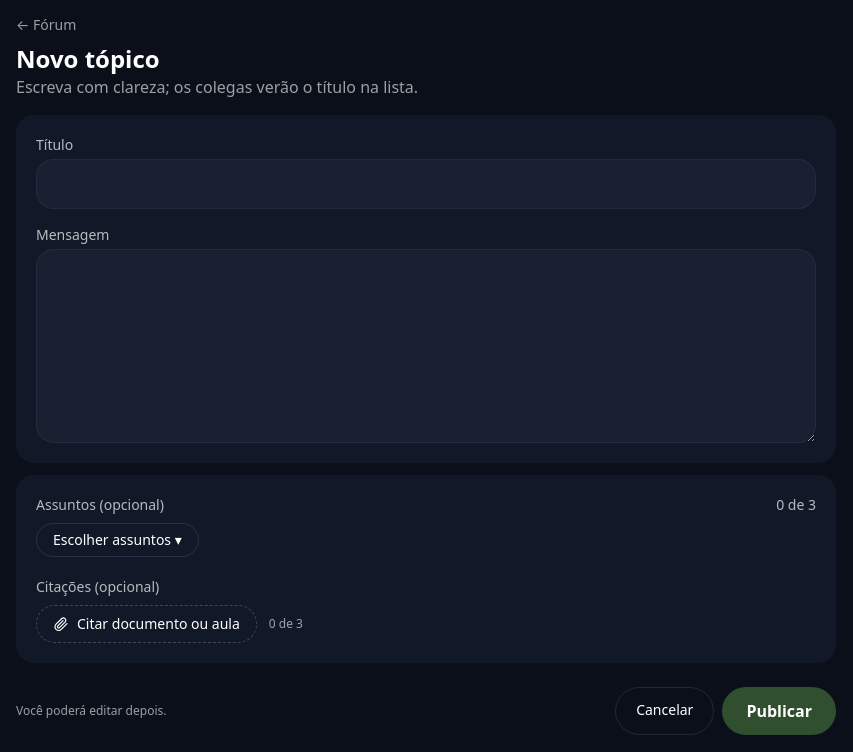
Scenario: NewTopicPage › recusa o 4º assunto
Click the button "Escolher assuntos ▾". click: click(117, 540)
box: [36, 523, 199, 557]
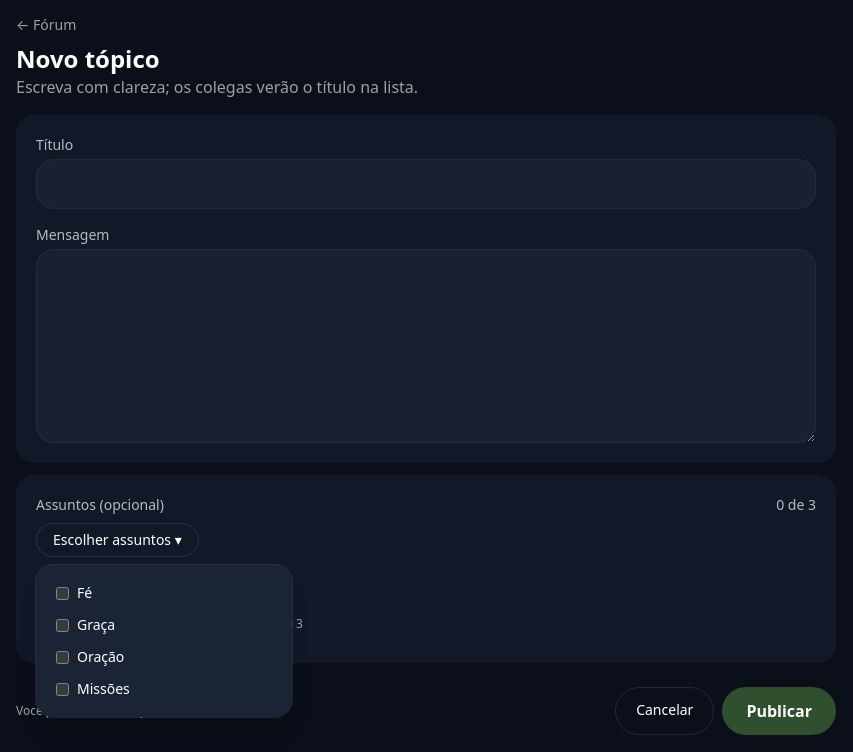
Click the checkbox labelled "Fé". click: click(62, 593)
box: [56, 586, 69, 600]
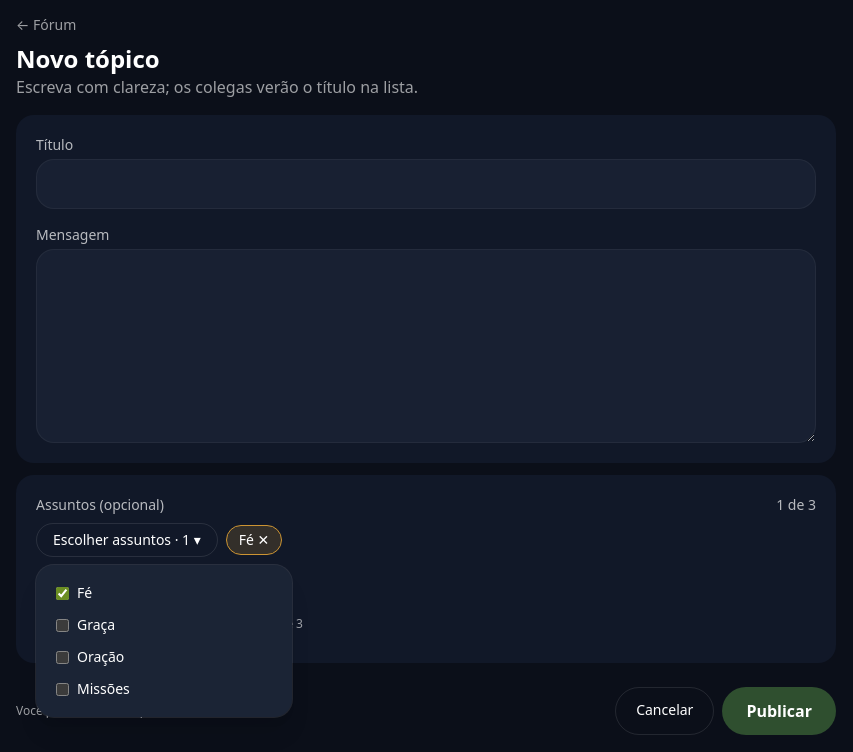
Click the checkbox labelled "Graça". click: click(62, 625)
box: [56, 618, 69, 632]
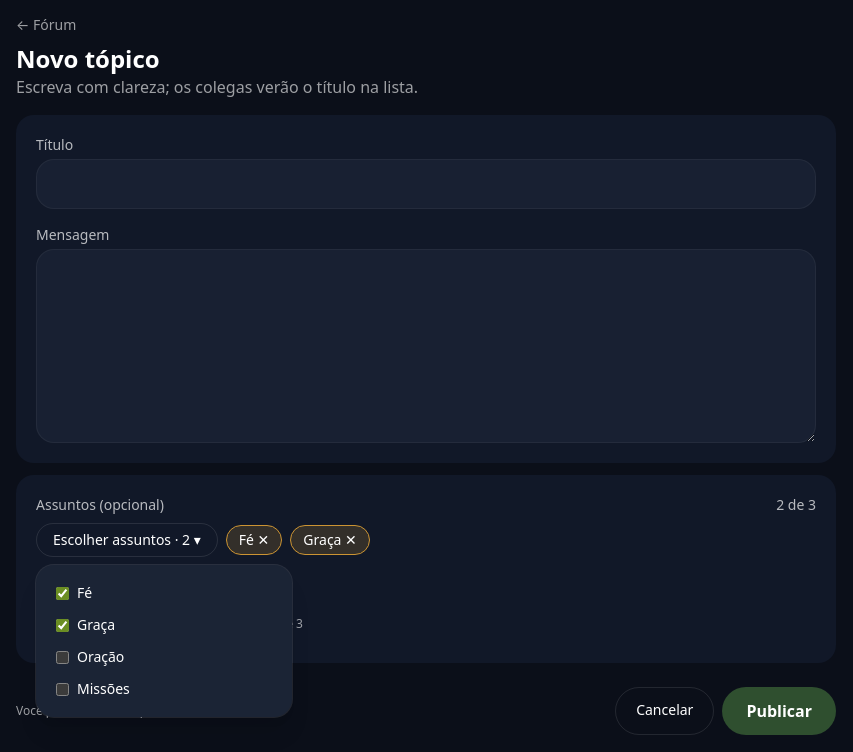
Click the checkbox labelled "Oração". click: click(62, 657)
box: [56, 650, 69, 664]
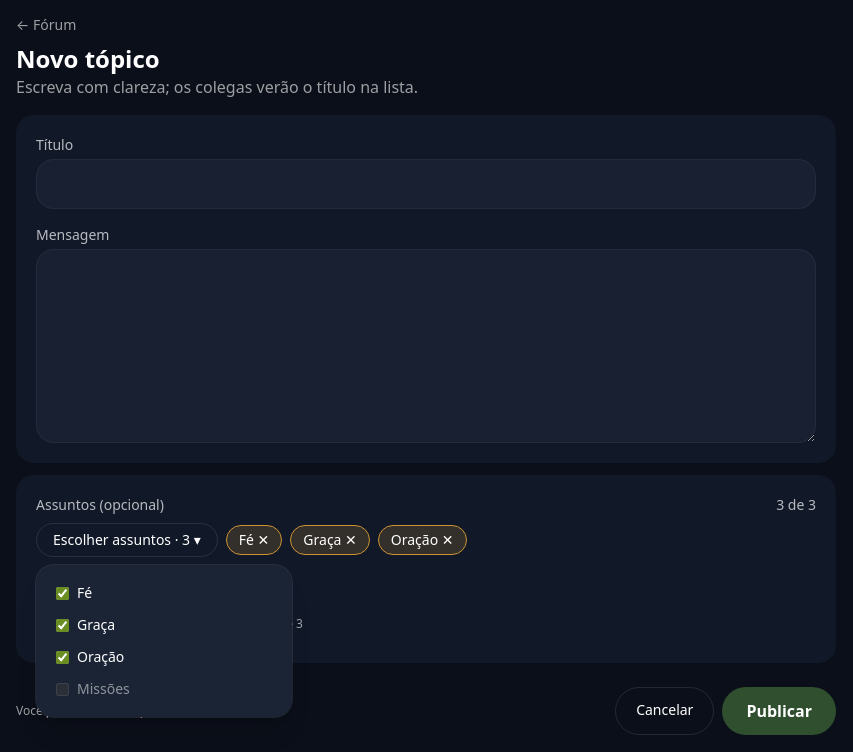
Now the checkbox labelled "Oração" is checked, box [56, 650, 69, 664]
Now the text "3 de 3" is shown, box [776, 495, 816, 515]
Now the checkbox labelled "Missões" is disabled, box [56, 682, 69, 696]
